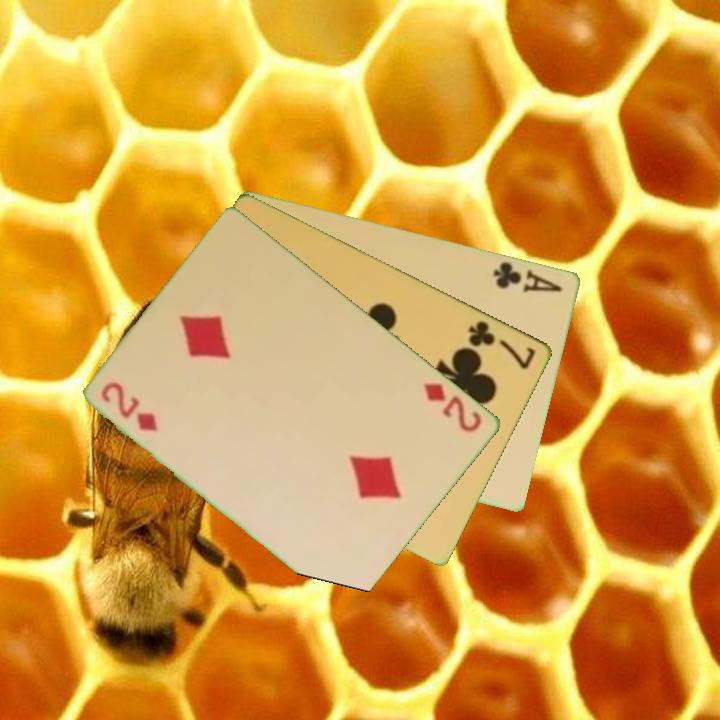2d: (420, 379, 486, 436), (98, 378, 161, 435)
7c: (465, 317, 539, 372)
Ac: (491, 257, 566, 295)
